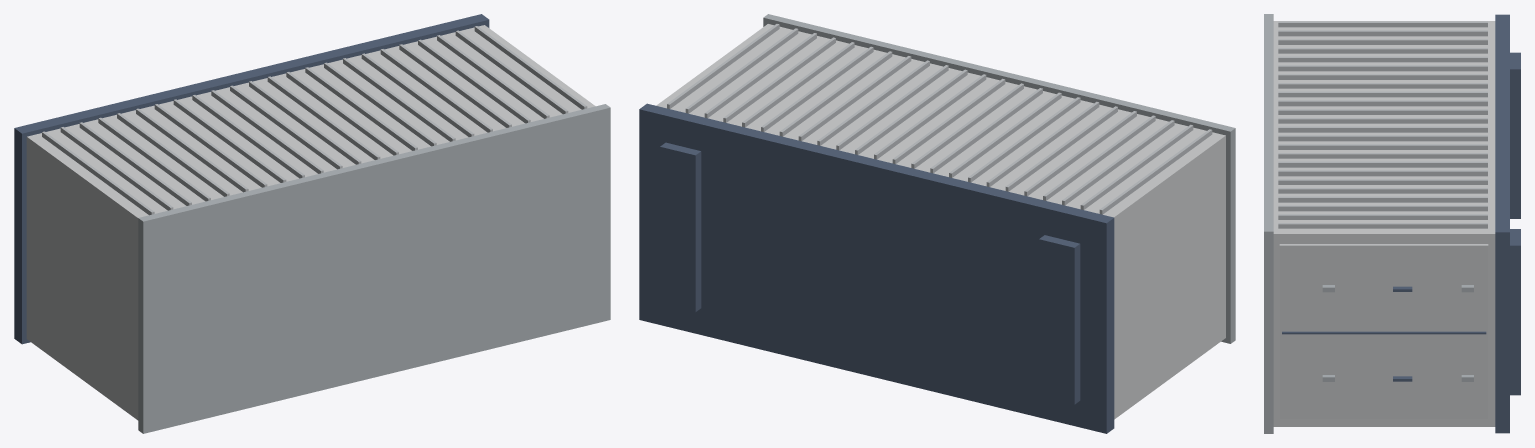
Rendered from OSB_Energy_Dis_Container.glb.
3 views of the same model, side by side, from view 1: azimuth 30°, elevation 25°; view 2: azimuth 150°, elevation 25°; view 3: azimuth 270°, elevation 25° (orthographic). The views are drawn at different scales.
Parts seen in each view (by area): view 1: roof_cap, container_main, base_rails, back_corrugation_-1.31, back_corrugation_2.50, back_corrugation_-1.07, back_corrugation_0.12, back_corrugation_1.31, back_corrugation_-2.50, back_corrugation_2.74, back_corrugation_-2.26, back_corrugation_-1.79 (+15 smaller); view 2: base_rails, container_main, roof_cap, floor_foot_2.4, floor_foot_-2.4, back_corrugation_-2.74, back_corrugation_2.50, back_corrugation_-0.12, back_corrugation_1.31, back_corrugation_1.07, back_corrugation_-2.50, back_corrugation_-1.31 (+17 smaller); view 3: right_end_doors, container_main, base_rails, roof_cap, floor_foot_-2.4, floor_foot_2.4, back_corrugation_-2.74, back_corrugation_-2.50, back_corrugation_-1.79, back_corrugation_-1.55, back_corrugation_-0.83, back_corrugation_-0.60 (+19 smaller).
Boxes of the visible parts, x1,y1,x2,y2 form: roof_cap: (138, 104, 610, 433); container_main: (26, 25, 595, 420); base_rails: (14, 14, 489, 344); back_corrugation_-1.31: (154, 104, 267, 187); back_corrugation_2.50: (455, 30, 568, 114); back_corrugation_-1.07: (173, 99, 286, 182); back_corrugation_0.12: (267, 76, 380, 159); back_corrugation_1.31: (361, 53, 474, 136); back_corrugation_-2.50: (60, 127, 173, 210); back_corrugation_2.74: (474, 26, 587, 109); back_corrugation_-2.26: (79, 122, 191, 205); back_corrugation_-1.79: (117, 113, 229, 196); base_rails: (639, 103, 1114, 433); container_main: (656, 24, 1225, 419); roof_cap: (763, 14, 1235, 343); floor_foot_2.4: (660, 142, 701, 312); floor_foot_-2.4: (1039, 235, 1080, 404); back_corrugation_-2.74: (1099, 129, 1212, 214); back_corrugation_2.50: (685, 28, 798, 113); back_corrugation_-0.12: (892, 78, 1005, 164); back_corrugation_1.31: (779, 51, 892, 136); back_corrugation_1.07: (798, 56, 911, 141); back_corrugation_-2.50: (1080, 124, 1193, 209); back_corrugation_-1.31: (986, 101, 1099, 186); right_end_doors: (1279, 244, 1488, 418); container_main: (1273, 21, 1495, 426); base_rails: (1495, 14, 1509, 433); roof_cap: (1264, 14, 1273, 433); floor_foot_-2.4: (1510, 52, 1520, 218); floor_foot_2.4: (1510, 229, 1520, 395); back_corrugation_-2.74: (1278, 21, 1487, 27); back_corrugation_-2.50: (1278, 30, 1487, 36); back_corrugation_-1.79: (1278, 56, 1487, 62); back_corrugation_-1.55: (1278, 65, 1487, 71); back_corrugation_-0.83: (1278, 91, 1487, 97); back_corrugation_-0.60: (1278, 100, 1487, 106).
Size of the model in its own units: 6 by 2.7 by 2.95.
